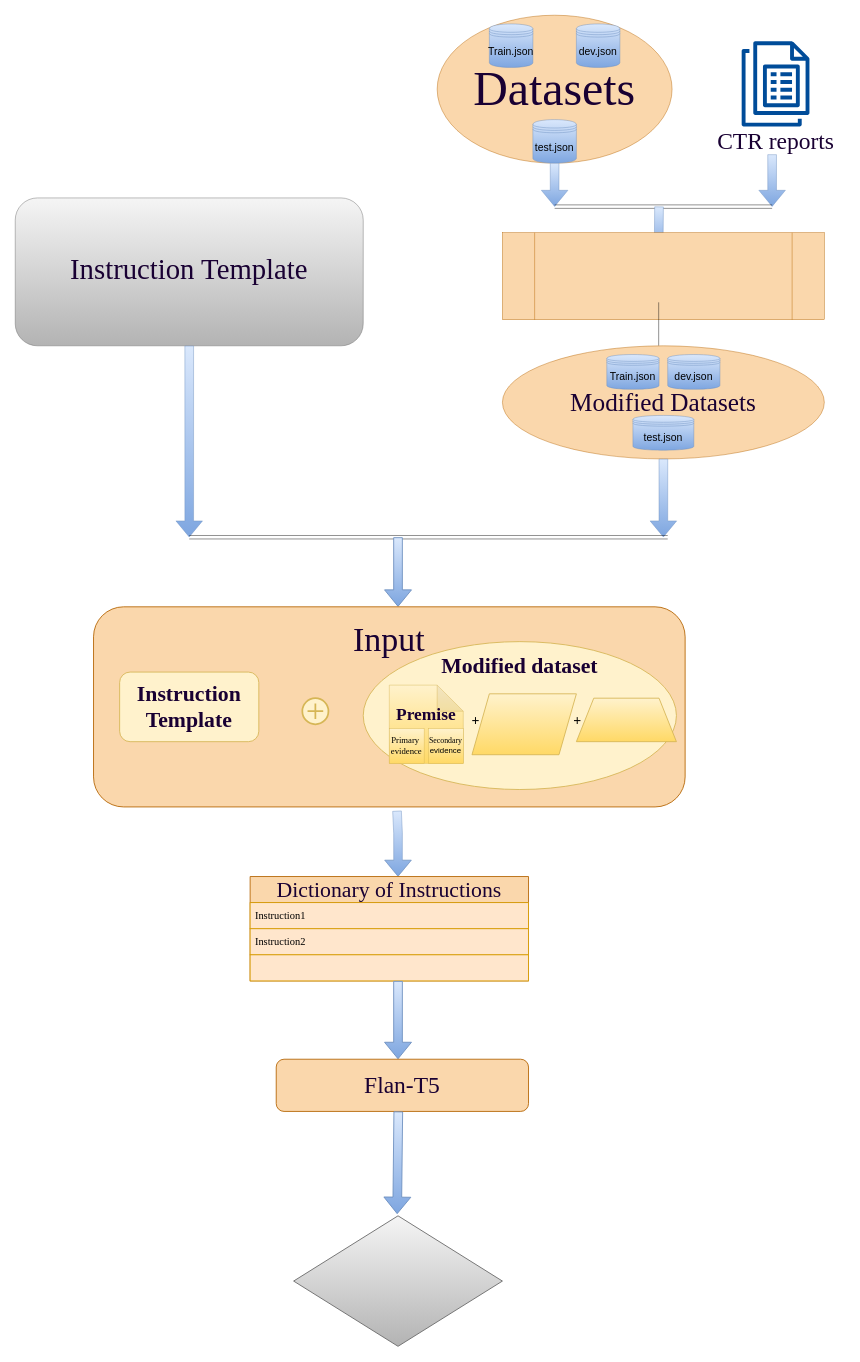
Image size: 860x1362. Some labels were removed from this diagram. Here are the shapes that lost their labels. From the top down, the centre of each, then its label:
(663,276): Data Connectors / Preprocessor Tooling
(523,724): Options : Entailment or Contradiction
(626,719): Hypothesis Statement
(389,967): Instruction3.....
(397,1280): Output: Contradiction or Entailment
